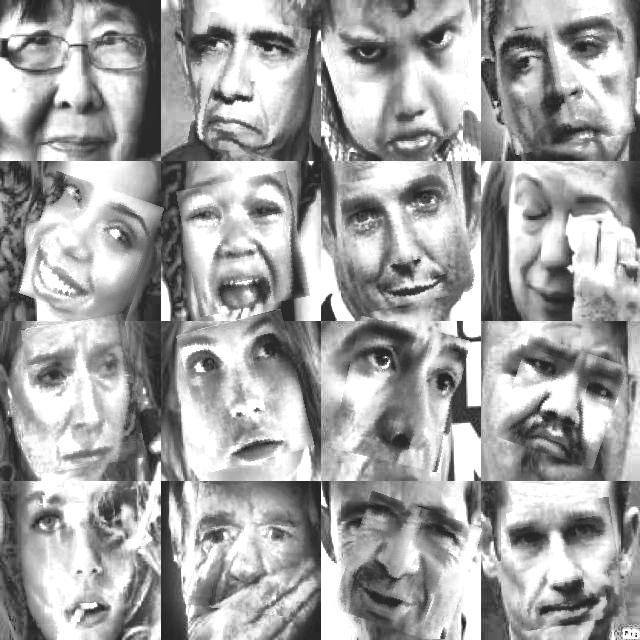angry: (338, 17, 462, 151), (193, 16, 306, 158), (503, 340, 620, 463)
fear: (181, 175, 305, 313), (188, 485, 306, 614)
happy: (341, 499, 475, 639), (24, 179, 156, 321), (342, 167, 471, 308), (13, 8, 138, 144)
neutral: (184, 315, 308, 467), (338, 322, 464, 468), (498, 18, 631, 150), (511, 500, 623, 628), (29, 492, 137, 623)
sad: (27, 316, 141, 469), (520, 179, 622, 297)
